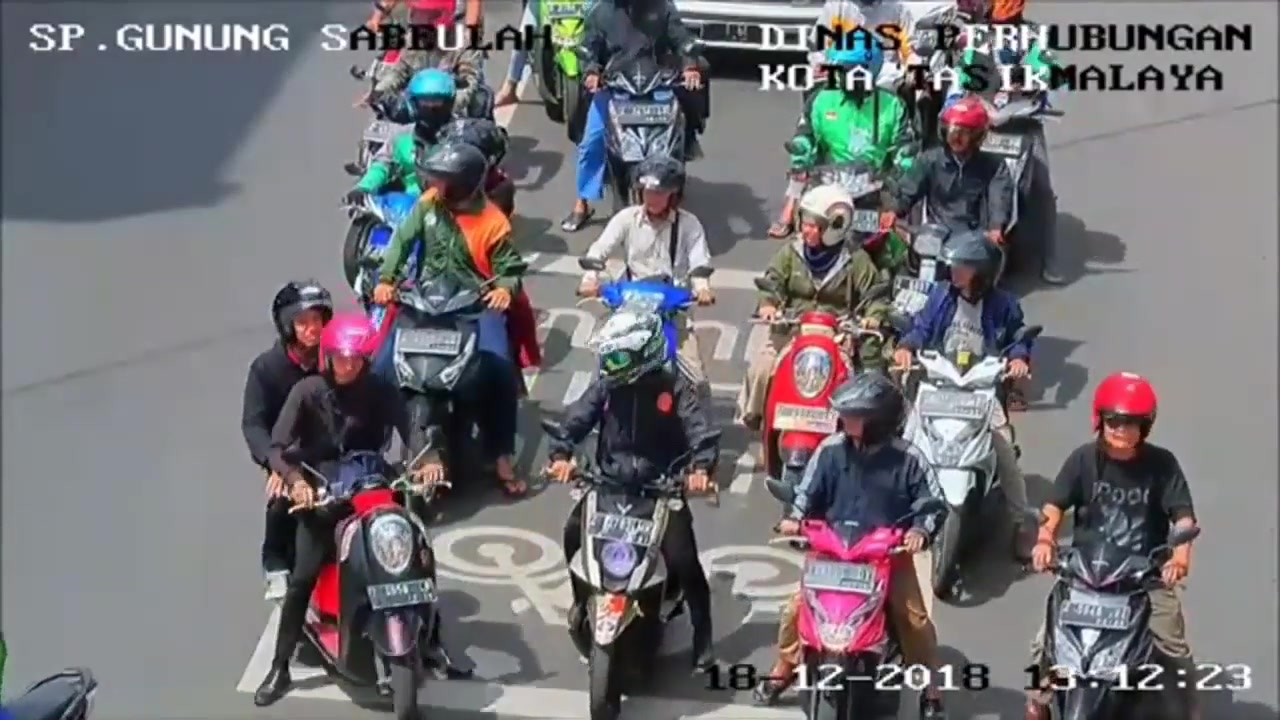person with helmet: (575, 301, 669, 421), (829, 366, 919, 485), (308, 309, 411, 402), (1092, 355, 1161, 481), (262, 272, 335, 359)
person with motorcycle: (236, 271, 449, 662), (566, 303, 705, 686), (795, 369, 929, 695), (1066, 351, 1188, 676)
